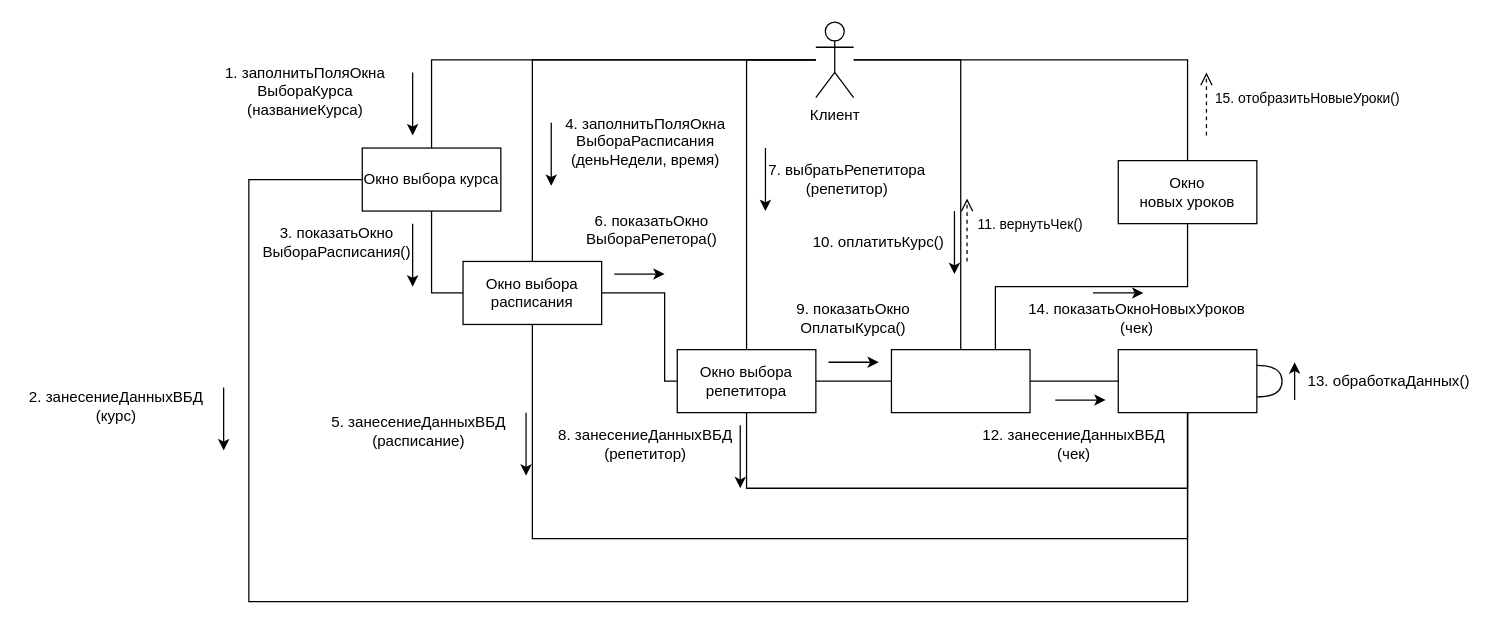
This 1504x625 diagram has some shape labels left out. Here are the shapes that lost their labels. From the top down, the centre of each, then its label:
At pixel 960 380: "Окно оплаты курса".
At pixel 1187 380: "База Данных".
